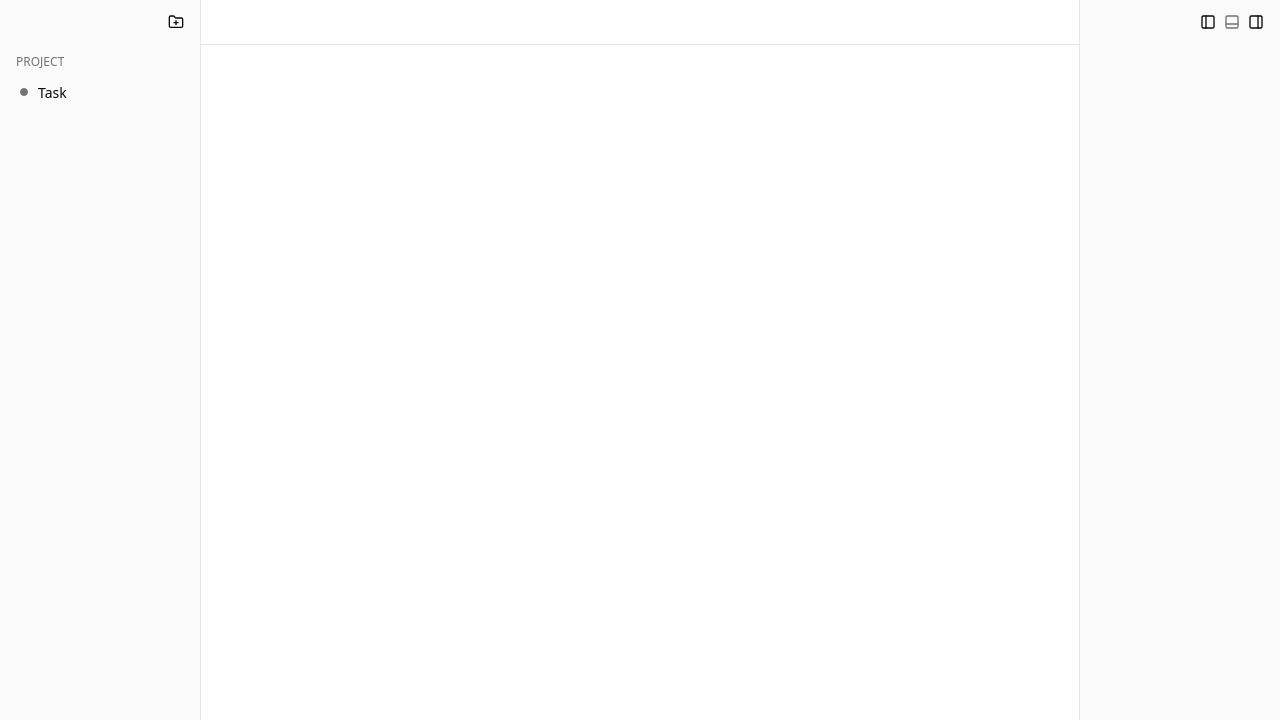
A turn › keeps its work in view when it ends in an error
This screenshot has width=1280, height=720.
Click the button with class "select". click: {"x": 100, "y": 92}
box: [8,76,192,108]
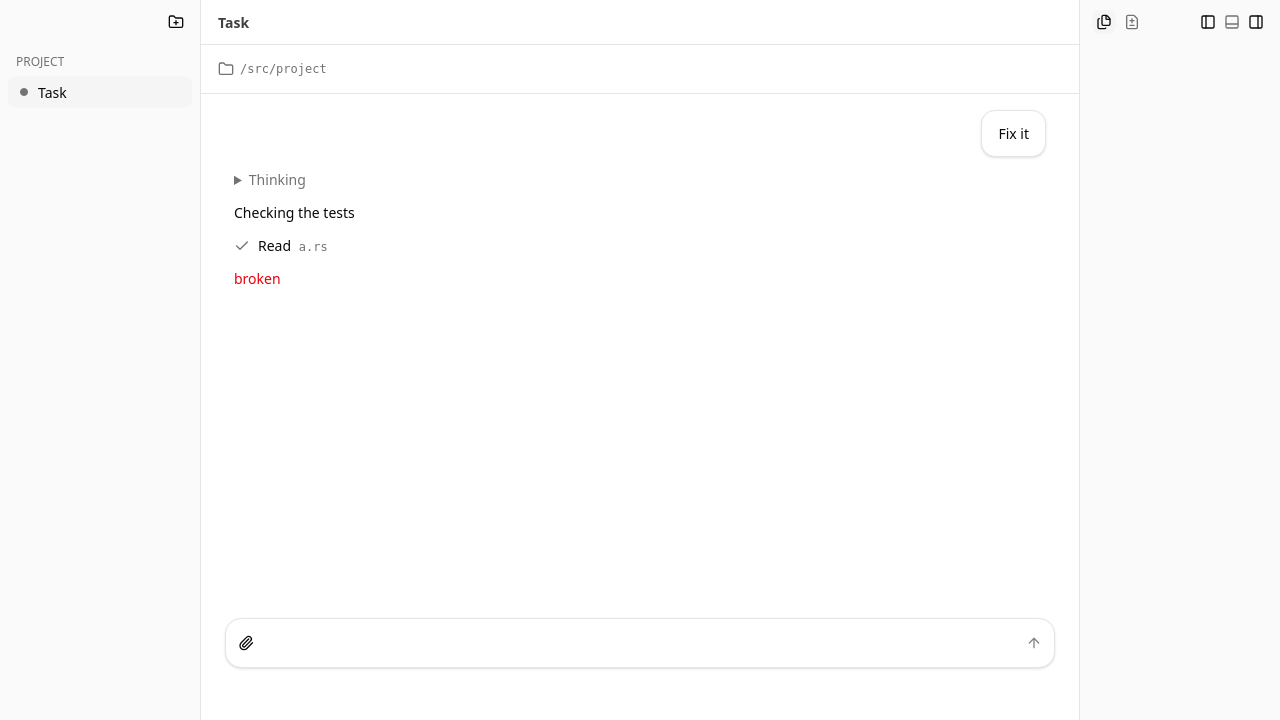
Check: the text "broken" is shown, box [234,269,281,288]
